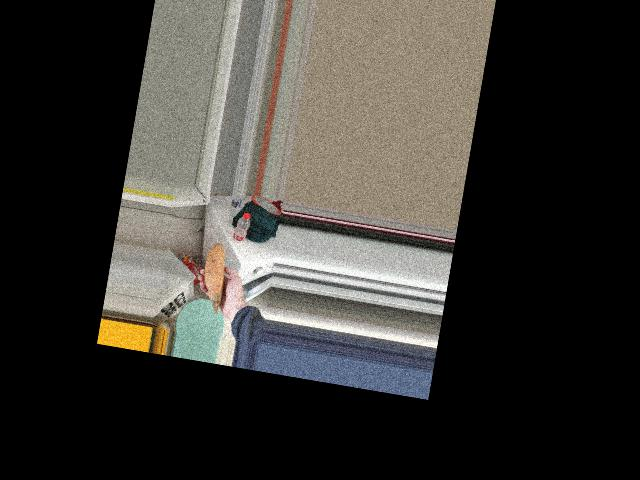sweet_potato: (197, 242, 230, 304)
